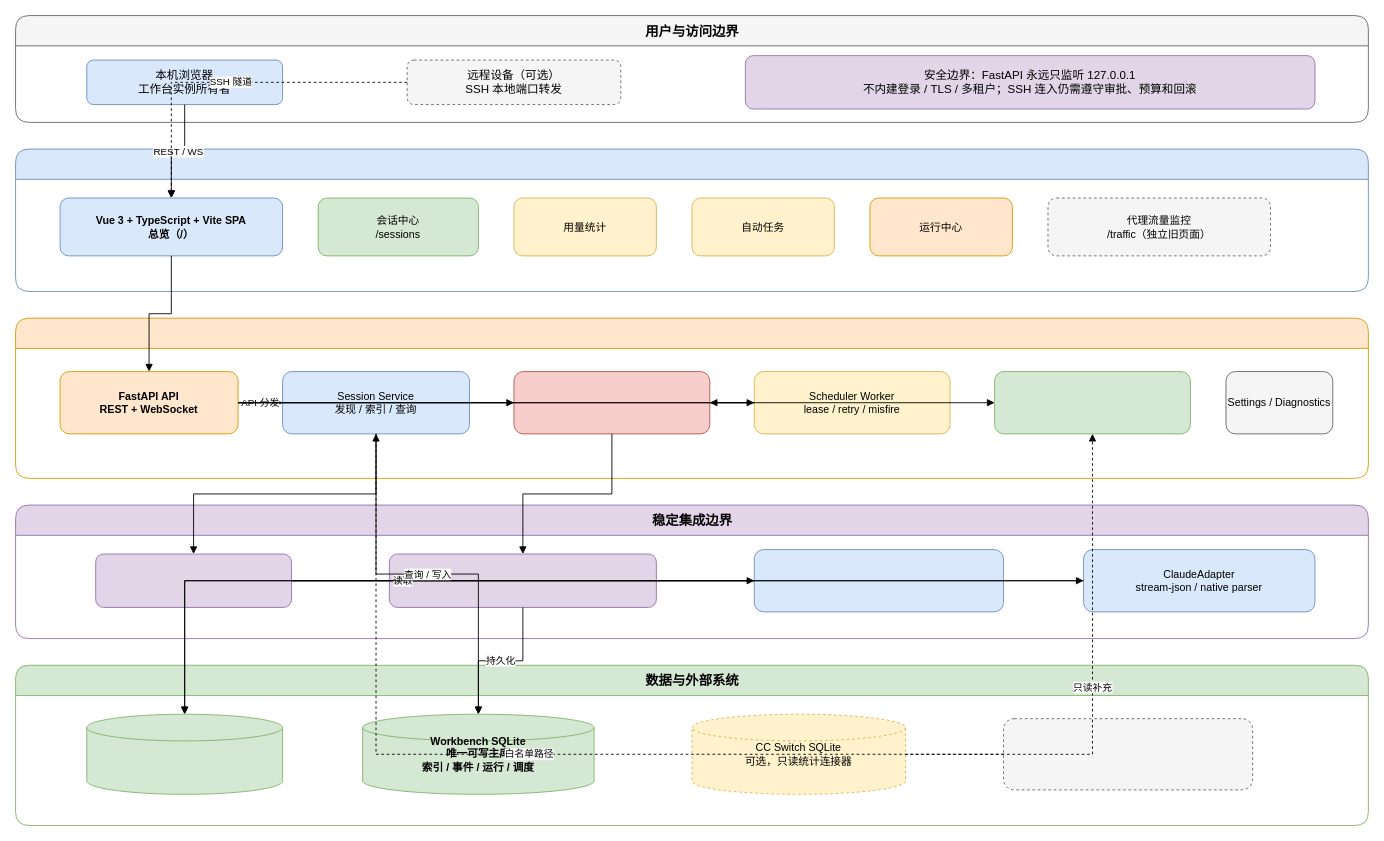
This 1384x841 diagram has some shape labels left out. Here are the shapes that lost their labels. From the top down, the box of each, then its label:
(15, 148, 1368, 291): 前端主壳
(513, 371, 710, 434): Execution Supervisor 进程 / 审批 / 事件流
(15, 317, 1368, 478): 应用与领域服务
(994, 371, 1190, 434): Stats Service 来源融合 / 质量标记
(95, 553, 291, 607): Adapter Registry
(388, 553, 656, 607): Normalized Event Bus 统一事件 + raw fallback
(753, 549, 1003, 612): CodexAdapter App Server → exec JSONL → native parser
(86, 713, 283, 794): Codex / Claude 原生会话文件 事实来源，只读
(1003, 718, 1253, 790): Cockpit Tools 配置 可选，仅白名单路径发现
